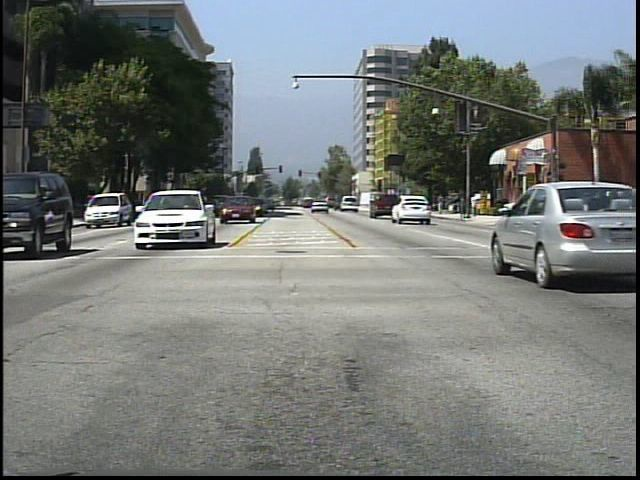person: (471, 191, 482, 220), (436, 192, 448, 216)
